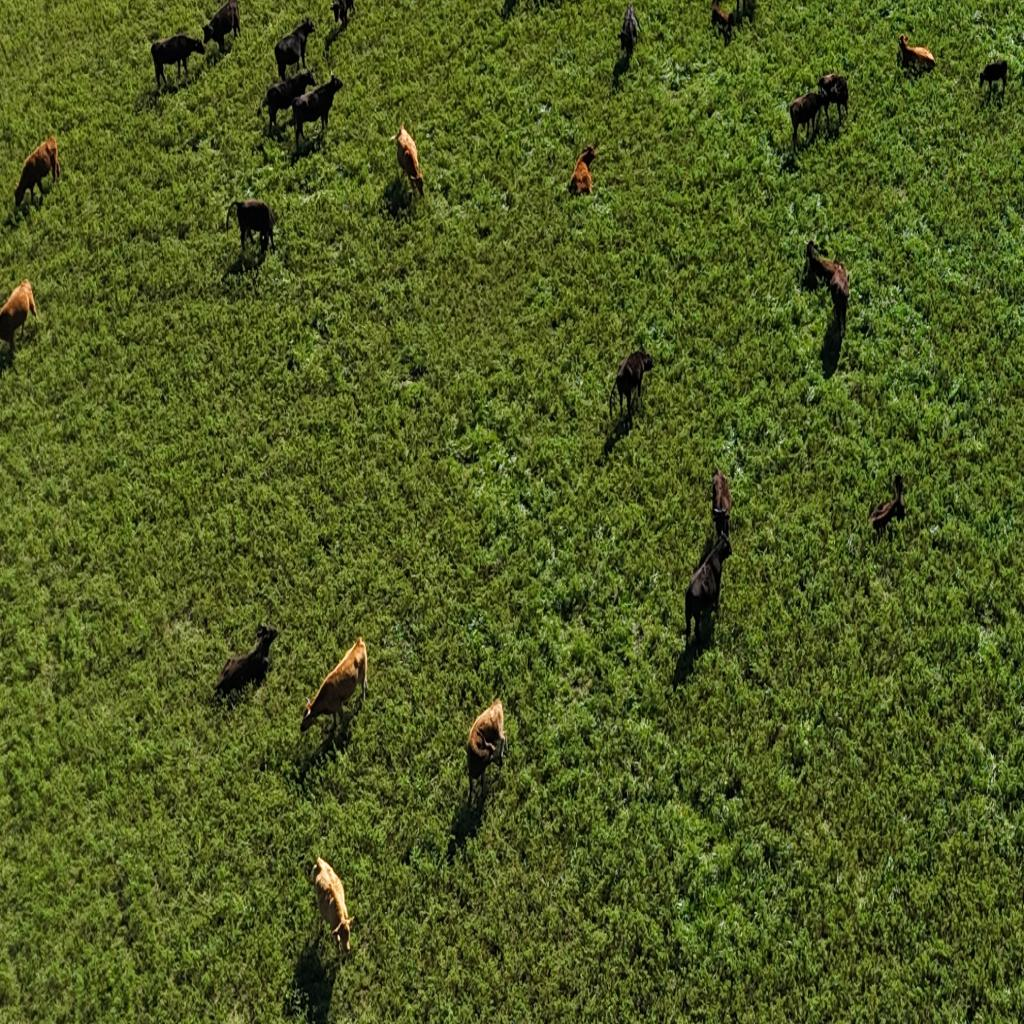cow: (299, 631, 373, 741), (684, 526, 735, 654), (250, 61, 319, 149), (466, 692, 516, 813), (308, 853, 358, 961), (212, 620, 281, 698), (280, 69, 344, 152), (610, 338, 654, 430), (12, 133, 61, 212), (0, 274, 40, 362), (228, 197, 278, 259), (389, 118, 426, 198), (867, 470, 907, 543), (786, 84, 826, 155), (201, 0, 244, 64), (150, 30, 198, 86), (273, 18, 314, 80), (708, 0, 759, 48), (612, 2, 643, 74), (896, 29, 935, 79), (710, 467, 733, 547), (828, 260, 851, 338), (803, 240, 836, 292), (978, 58, 1009, 96), (818, 72, 848, 111), (569, 156, 594, 197), (330, 0, 353, 30), (576, 142, 598, 170), (712, 3, 733, 30)
